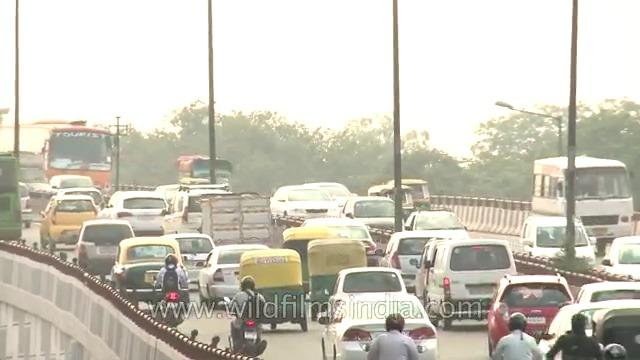Auto: (235, 245, 307, 328), (305, 235, 374, 312)
Bike: (225, 274, 274, 360), (149, 253, 187, 327), (490, 311, 546, 360), (372, 315, 420, 360)
Car: (419, 236, 527, 327), (315, 289, 443, 360), (113, 234, 187, 308), (74, 215, 145, 275)
